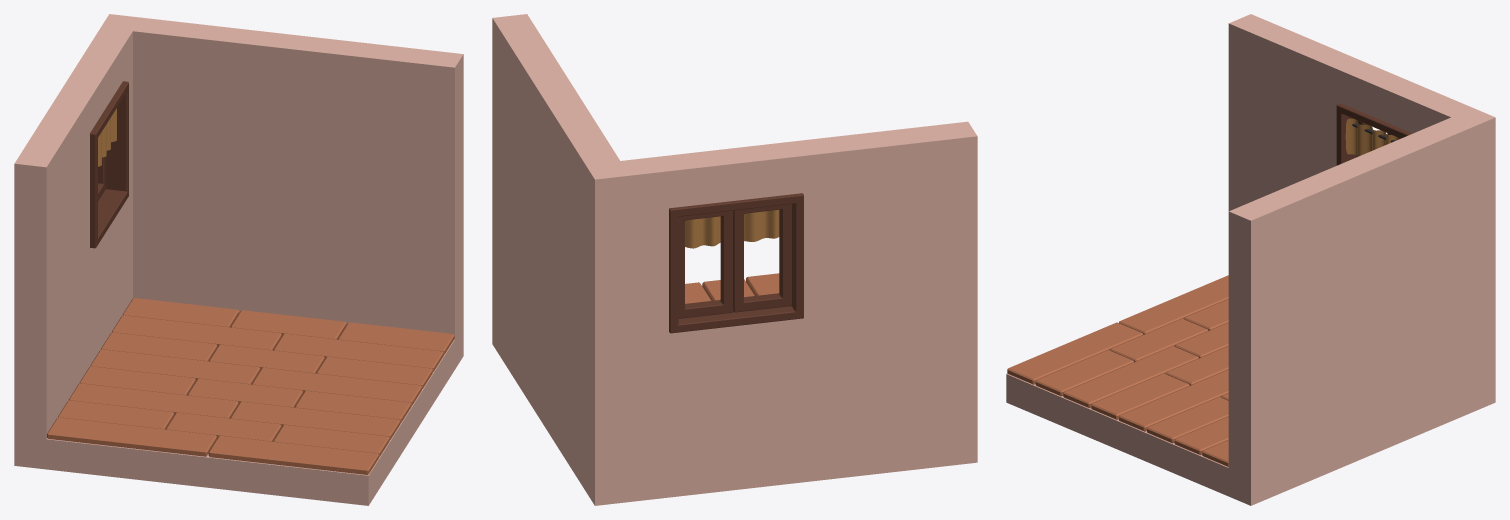
Rendered from WebsiteIsometricRoom.glb.
3 renders of one model, left to right at view 1: azimuth 30°, elevation 25°; view 2: azimuth 150°, elevation 25°; view 3: azimuth 270°, elevation 25°, orthographic. The views are drawn at different scales.
Parts seen in each view (by area): view 1: Room; view 2: Room; view 3: Room.
Part boxes in pixels (bbox=[...]): Room: bbox=[14, 14, 463, 505]; Room: bbox=[492, 14, 977, 505]; Room: bbox=[1006, 14, 1495, 505].
Size of what is drawn, in the model's own units: 3.11 by 2 by 3.11.
